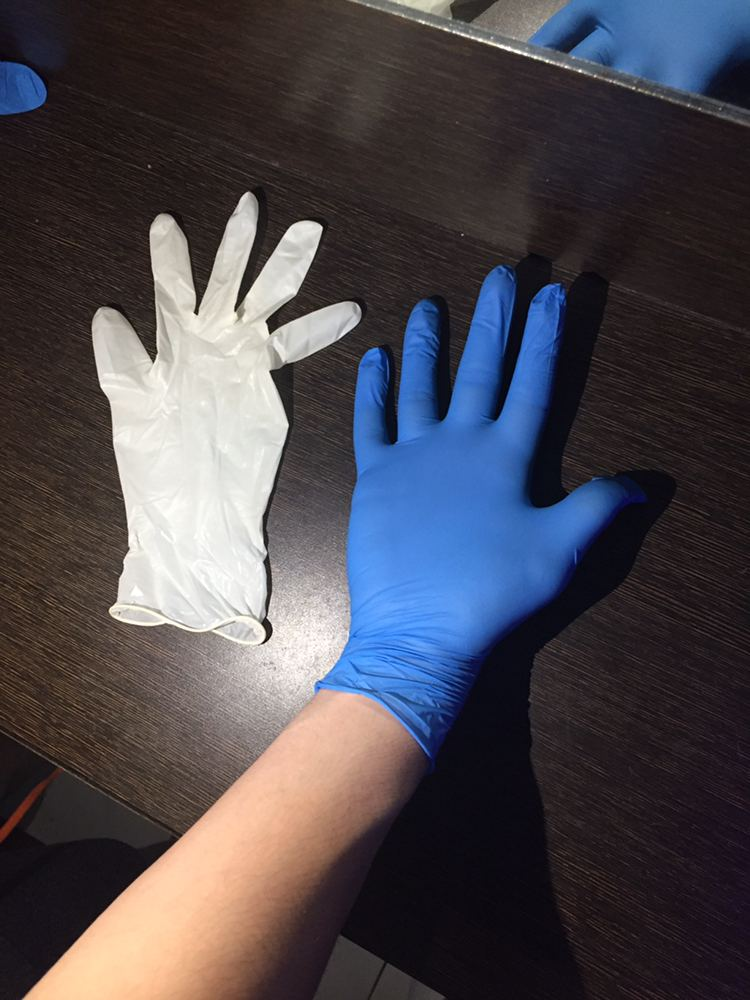glove: (317, 249, 632, 706), (87, 169, 359, 621)
